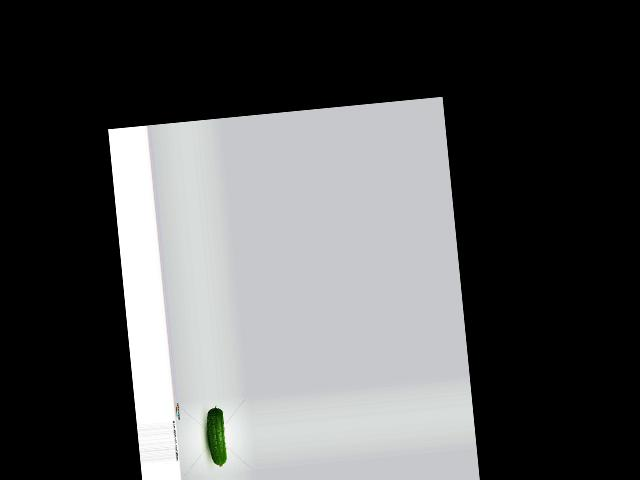cucumber: (204, 405, 228, 468)
